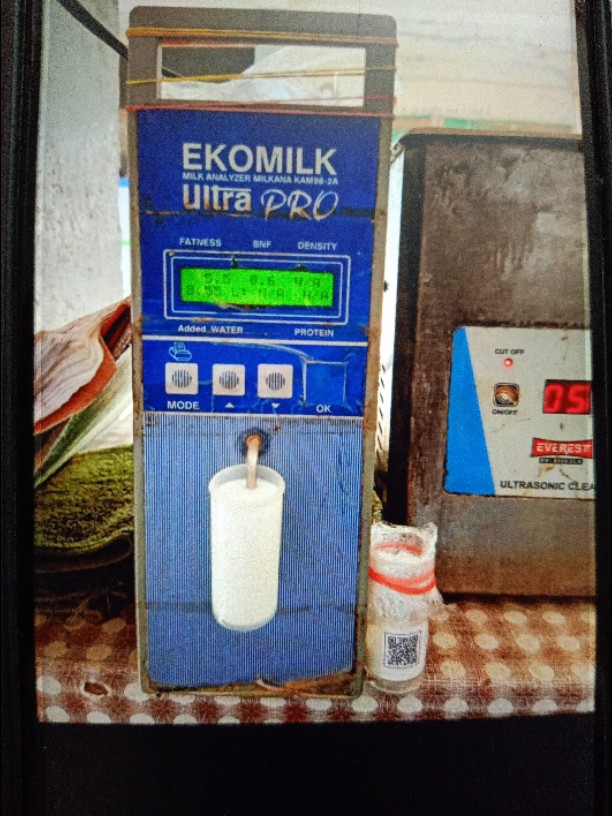lcd: (177, 264, 338, 314)
qr: (382, 631, 425, 669)
